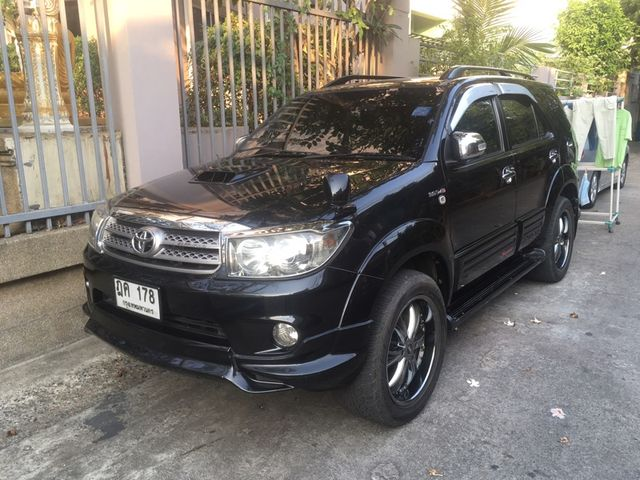pickup: (83, 64, 583, 426)
